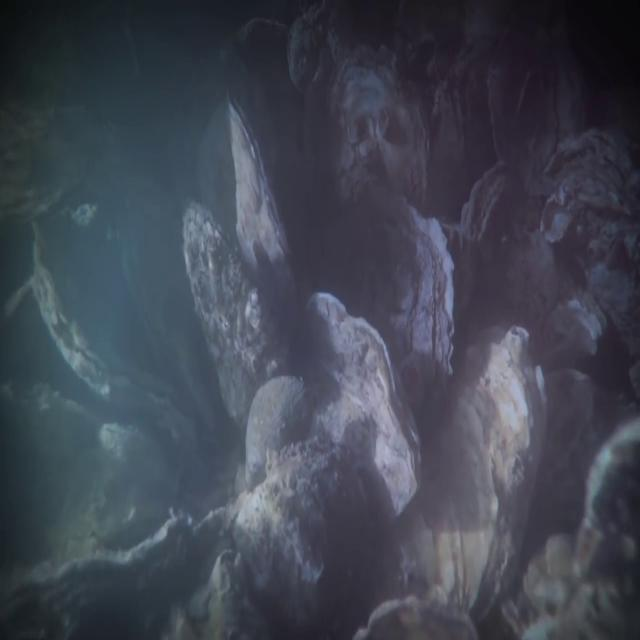Oyster-Closed: (386, 320, 547, 624), (24, 215, 210, 450), (299, 282, 425, 525), (179, 195, 292, 435), (226, 85, 307, 340)
Oyster-Indeterminate: (338, 189, 459, 441), (323, 39, 434, 230), (461, 160, 520, 275)
